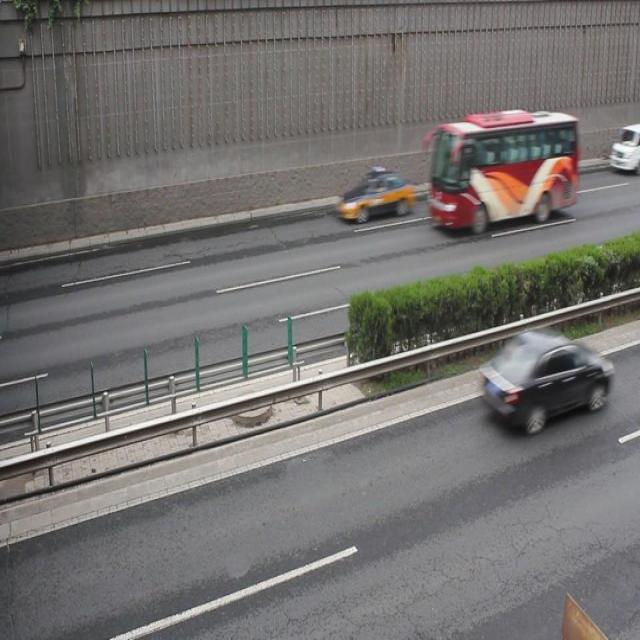car: (480, 323, 608, 431), (334, 169, 413, 222)
truck: (608, 123, 640, 173)
van: (428, 110, 576, 229)
